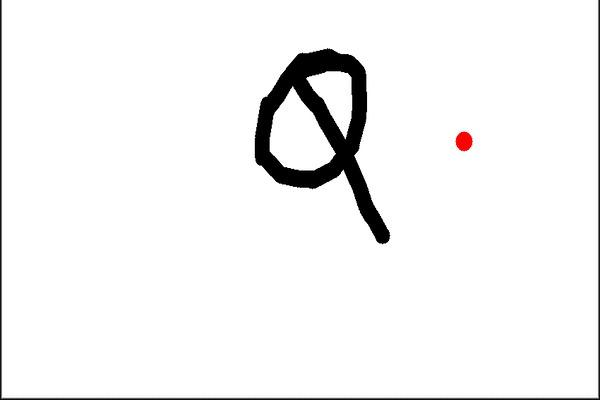Q: (236, 43, 399, 264)
